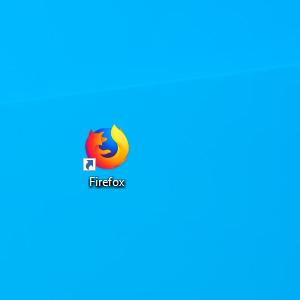firefox: (82, 121, 129, 171)
